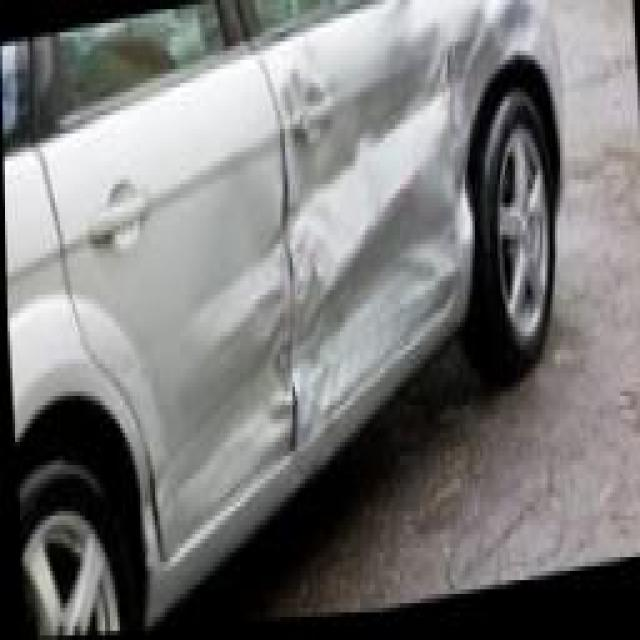replaceable: (354, 92, 468, 356), (266, 218, 362, 458), (435, 4, 522, 75)
